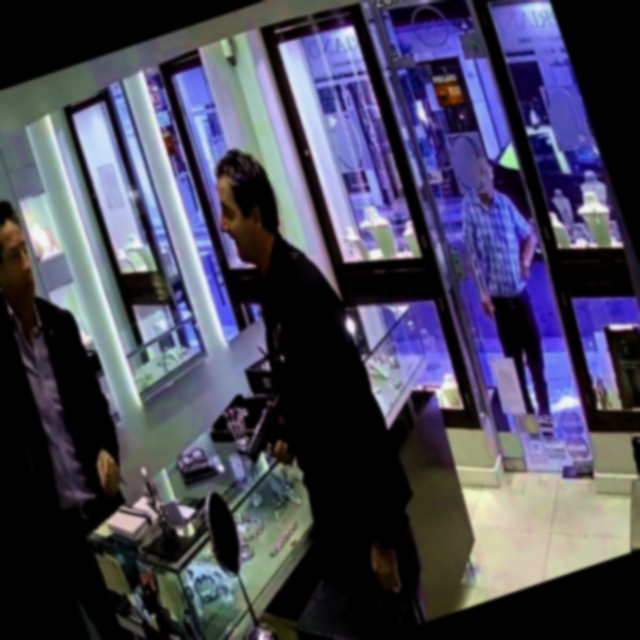gun: (217, 380, 306, 498)
